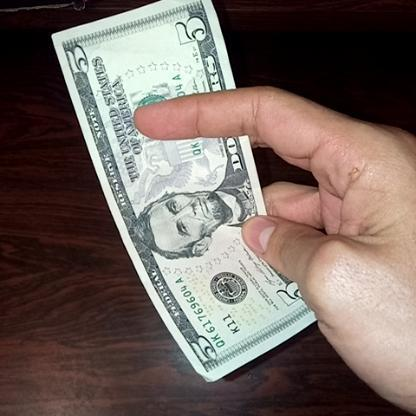dollar_front: (56, 2, 319, 390)
